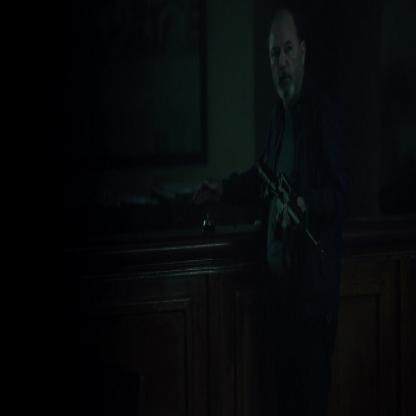Guns: (255, 156, 326, 261)
